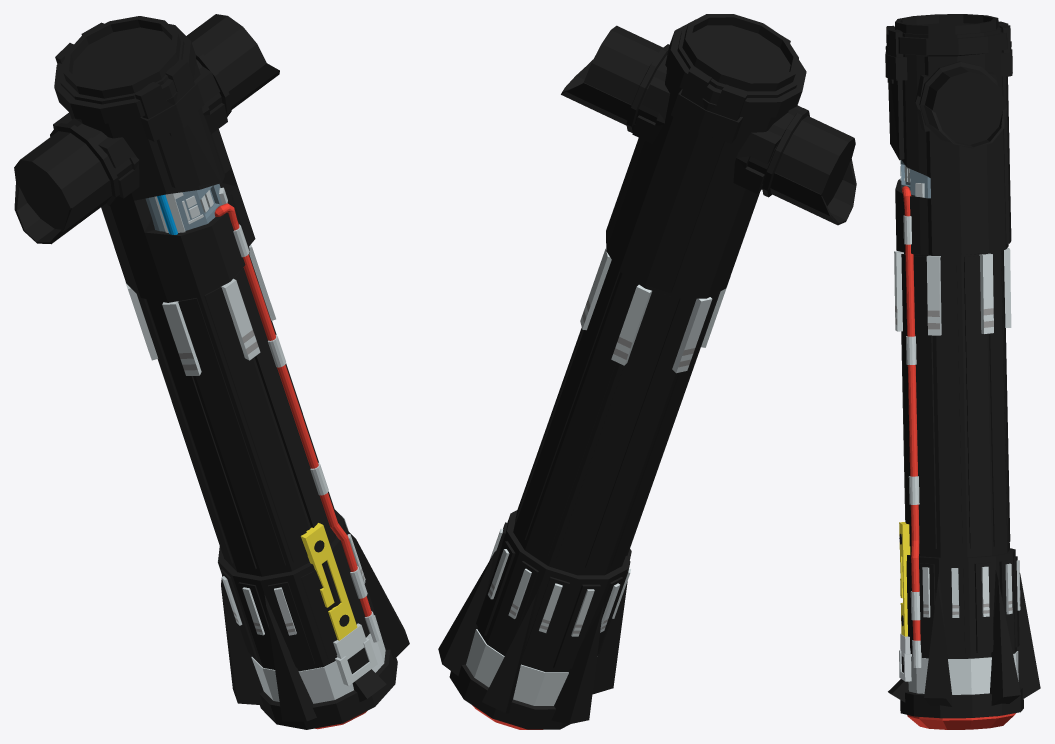
The model's file is saber.glb.
The picture shows the model from 3 angles, left to right: view 1: azimuth 30°, elevation 25°; view 2: azimuth 150°, elevation 25°; view 3: azimuth 270°, elevation 25°; orthographic projection. The views are drawn at different scales.
Visible parts, largest first — view 1: group1900312317, group7303660, group1385939980, group380212402, group991908054, group479753504, group980318425, group1354302519, group489493846, group1437364980, group311749857, group2002455986 (+9 smaller); view 2: group1900312317, group7303660, group1385939980, group380212402, group1060611746, group991908054, group479753504, group980318425, group1437364980, group2002455986, group1804859901, group834085137 (+4 smaller); view 3: group1900312317, group7303660, group380212402, group1385939980, group479753504, group980318425, group1354302519, group1437364980, group991908054, group1804859901, group489493846, group1060611746 (+11 smaller).
Part boxes in pixels (<box>): group1900312317: <box>54,24,397,729</box>; group7303660: <box>137,255,336,569</box>; group1385939980: <box>14,14,266,229</box>; group380212402: <box>221,531,409,721</box>; group991908054: <box>63,16,180,98</box>; group479753504: <box>218,527,373,667</box>; group980318425: <box>125,244,275,375</box>; group1354302519: <box>214,203,371,616</box>; group489493846: <box>156,112,219,188</box>; group1437364980: <box>251,615,385,703</box>; group311749857: <box>300,523,357,640</box>; group2002455986: <box>14,179,112,244</box>; group1900312317: <box>449,19,806,729</box>; group7303660: <box>515,260,720,567</box>; group1385939980: <box>583,25,855,206</box>; group380212402: <box>438,531,627,724</box>; group1060611746: <box>625,120,724,293</box>; group991908054: <box>682,14,798,91</box>; group479753504: <box>476,522,630,668</box>; group980318425: <box>580,248,730,373</box>; group1437364980: <box>466,629,568,705</box>; group2002455986: <box>770,159,856,225</box>; group1804859901: <box>488,528,630,636</box>; group834085137: <box>733,130,781,194</box>; group1900312317: <box>886,25,1023,729</box>; group7303660: <box>901,250,1010,549</box>; group380212402: <box>888,549,1040,706</box>; group1385939980: <box>919,61,1006,144</box>; group479753504: <box>906,556,1019,653</box>; group980318425: <box>894,247,1011,335</box>; group1354302519: <box>902,186,920,640</box>; group1437364980: <box>908,651,1018,694</box>; group991908054: <box>895,14,998,34</box>; group1804859901: <box>922,560,1020,617</box>; group489493846: <box>888,80,904,160</box>; group1060611746: <box>1003,76,1011,243</box>.
Size of the model in its own units: 0.5445 by 1 by 0.2208.
